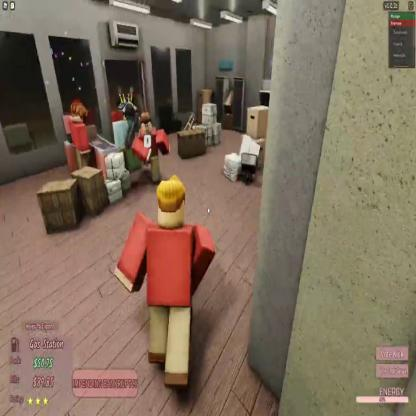Roblox-Avatar: (116, 175, 217, 385)
